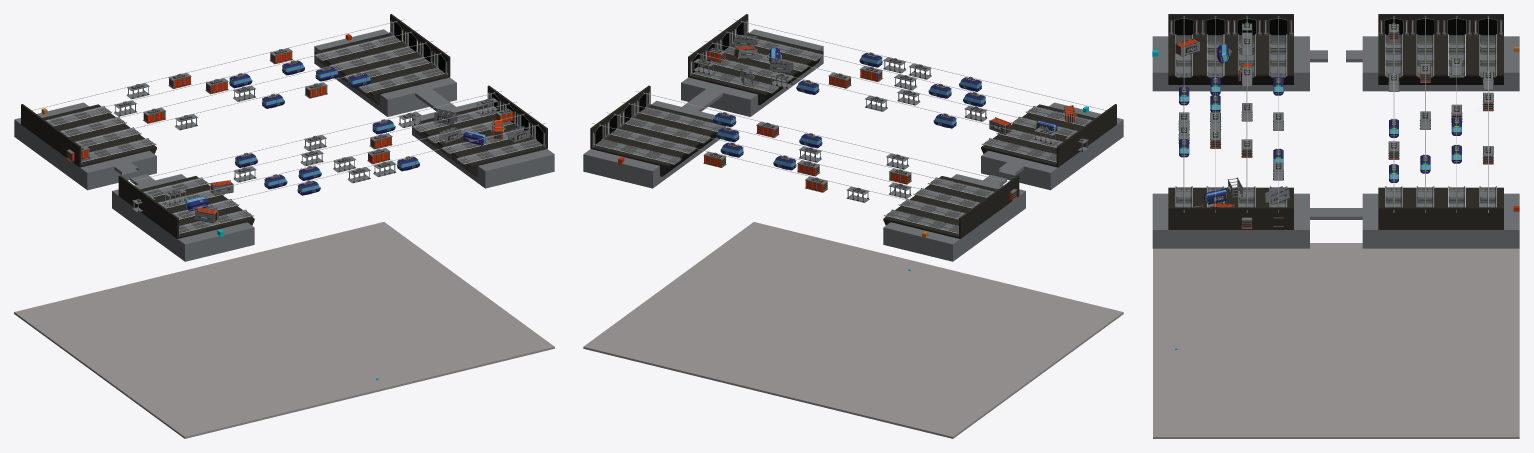
The model's file is room3.fbx.
The picture shows the model from 3 angles, left to right: view 1: azimuth 30°, elevation 25°; view 2: azimuth 150°, elevation 25°; view 3: azimuth 270°, elevation 25°; orthographic projection. The views are drawn at different scales.
Visible parts, largest first — view 1: ground.007, path.007, tram base.002, tram base.001, tram base.003, tram base.004, tram base.decor.001, tram base.decor, tram base.decor.002, tram base.decor.003; view 2: ground.007, path.007, tram base.002, tram base.001, tram base.003, tram base.004, tram base.decor.001, tram base.decor, tram base.decor.002, tram base.decor.003; view 3: ground.007, path.007, tram base.001, tram base.004, tram base.002, tram base.003, tram base.decor, tram base.decor.001, tram base.decor.002, tram base.decor.003.
Boxes of the visible parts, box(x1,y1,x2,y2) form: ground.007: box(14, 222, 554, 438); path.007: box(14, 29, 554, 261); tram base.002: box(314, 14, 450, 105); tram base.001: box(21, 104, 156, 167); tram base.003: box(412, 85, 547, 176); tram base.004: box(118, 175, 254, 238); tram base.decor.001: box(31, 19, 448, 164); tram base.decor: box(130, 91, 546, 236); tram base.decor.002: box(315, 20, 448, 92); tram base.decor.003: box(412, 92, 545, 164); ground.007: box(583, 222, 1123, 438); path.007: box(583, 29, 1123, 261); tram base.002: box(590, 85, 725, 176); tram base.001: box(883, 175, 1019, 238); tram base.003: box(688, 14, 823, 105); tram base.004: box(981, 104, 1116, 167); tram base.decor.001: box(592, 91, 1008, 236); tram base.decor: box(689, 19, 1106, 164); tram base.decor.002: box(592, 91, 724, 164); tram base.decor.003: box(690, 20, 822, 92); ground.007: box(1153, 243, 1519, 438); path.007: box(1152, 36, 1519, 248); tram base.001: box(1378, 14, 1503, 84); tram base.004: box(1168, 14, 1293, 84); tram base.002: box(1378, 186, 1503, 229); tram base.003: box(1168, 187, 1293, 229); tram base.decor: box(1169, 15, 1293, 212); tram base.decor.001: box(1378, 15, 1503, 212); tram base.decor.002: box(1385, 186, 1496, 207); tram base.decor.003: box(1175, 186, 1287, 207).
Size of the model in its own units: 41127 by 31890 by 22406.
